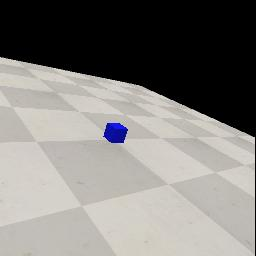box: (103, 123, 128, 143)
